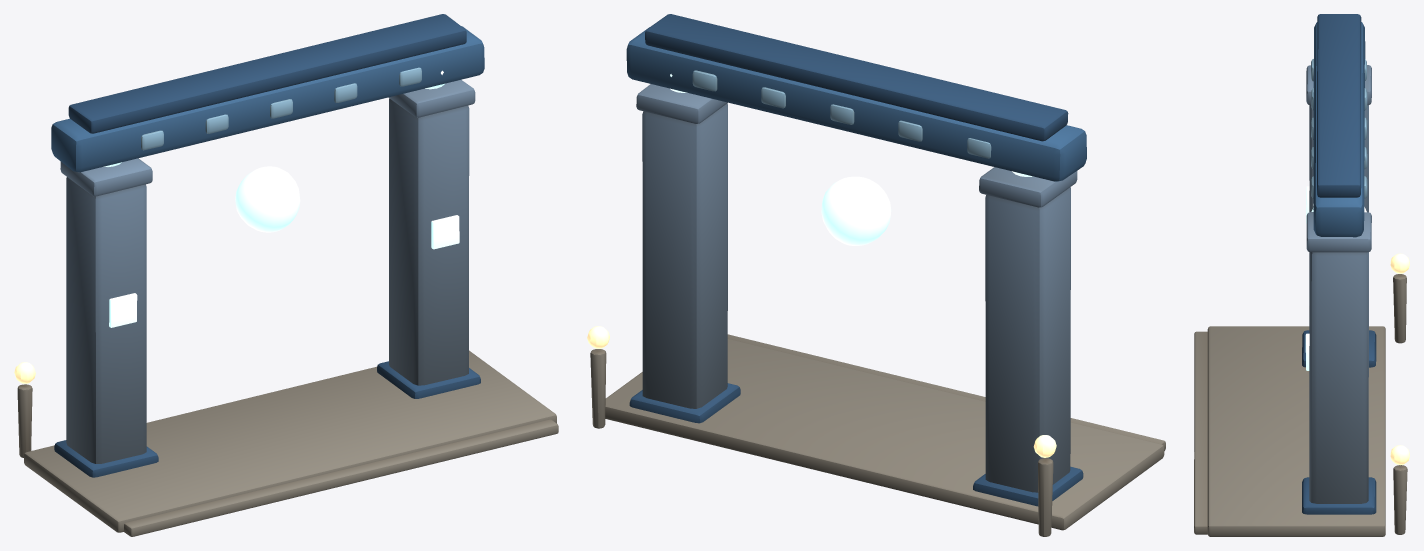
3 renders of one model, left to right at view 1: azimuth 30°, elevation 25°; view 2: azimuth 150°, elevation 25°; view 3: azimuth 270°, elevation 25°, orthographic. The views are drawn at different scales.
Visible parts, largest first — view 1: gate_7eb86cae; view 2: gate_7eb86cae; view 3: gate_7eb86cae.
Boxes of the visible parts, <box> form: gate_7eb86cae: <box>14,14,558,536</box>; gate_7eb86cae: <box>587,14,1165,536</box>; gate_7eb86cae: <box>1194,14,1409,536</box>.
Size of the model in its own units: 5.6 by 4.42 by 2.55.
